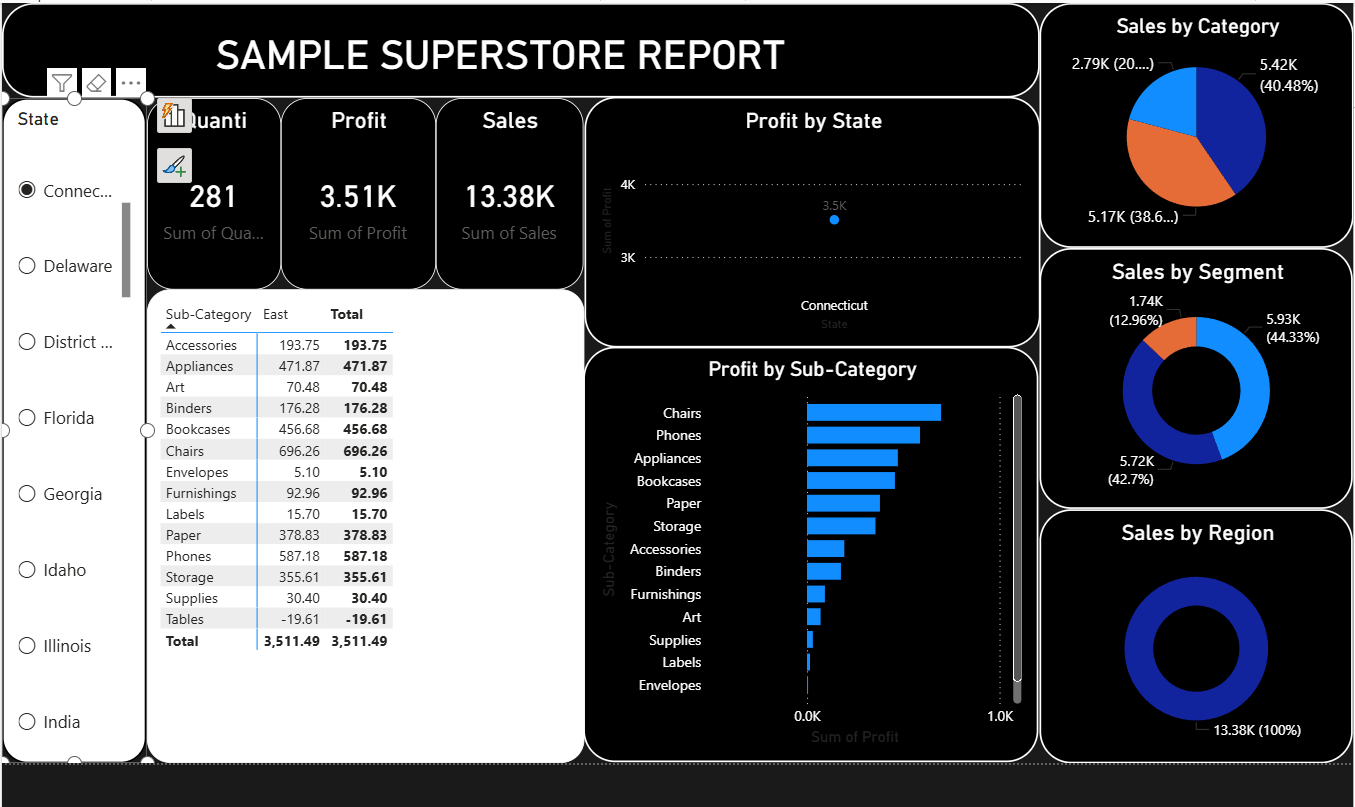

The dashboard page shown, as its layout file describes it:
{"tool":"powerbi","page":{"name":"Page 1","canvas":[1280,720],"ordinal":0},"visuals":[{"type":"textbox","box":[0,0,983.2,89.3],"z":0},{"type":"pieChart","title":"Profit by Category","fields":{"Category":["Table_1.Category"],"Y":["Sum(Table_1.Profit)"]},"box":[983.2,0,297.1,232.3],"z":1000},{"type":"donutChart","title":"Profit by Segment","fields":{"Category":["Table_1.Segment"],"Y":["Sum(Table_1.Profit)"]},"box":[983.2,232.3,297.1,247],"z":2000},{"type":"donutChart","title":"Profit by Region","fields":{"Category":["Table_1.Region"],"Y":["Sum(Table_1.Profit)"]},"box":[983.2,479.4,297.1,240.9],"z":3000},{"type":"lineChart","title":" Profit by State","fields":{"Category":["Table_1.State"],"Y":["Sum(Table_1.Profit)"]},"box":[551.5,89.3,431.7,237.2],"z":4000},{"type":"clusteredBarChart","title":" Profit by Sub-Category","fields":{"Category":["Table_1.Sub-Category"],"Y":["Sum(Table_1.Profit)"]},"box":[551.1,326.1,431.4,393.9],"z":5000},{"type":"pivotTable","fields":{"Columns":["Table_1.Region"],"Rows":["Table_1.Sub-Category"],"Values":["Sum(Table_1.Profit)"]},"box":[137.1,271.2,414.1,448.7],"z":6000},{"type":"card","title":"Sales","fields":{"Values":["Sum(Table_1.Sales)"]},"box":[411.2,89.5,139.9,181.8],"z":7000},{"type":"card","title":"Profit","fields":{"Values":["Sum(Table_1.Profit)"]},"box":[264,89.5,147.2,181.8],"z":8000},{"type":"card","title":"Quanti","fields":{"Values":["Sum(Table_1.Quantity)"]},"box":[137.1,89.5,127,181.8],"z":9000},{"type":"listSlicer","fields":{"Values":["Table_1.State"]},"box":[0,89.5,137.1,630.5],"z":9001}]}

Visuals, with their boxes in screenshot pixels (x1, y1, x2, y2):
textbox: [7, 0, 1033, 93]
"Profit by Category" pieChart: [1033, 0, 1344, 243]
"Profit by Segment" donutChart: [1033, 243, 1344, 500]
"Profit by Region" donutChart: [1033, 500, 1344, 752]
" Profit by State" lineChart: [583, 93, 1033, 341]
" Profit by Sub-Category" clusteredBarChart: [582, 340, 1033, 752]
pivotTable - Table_1.Region x Table_1.Sub-Category: [150, 283, 582, 752]
"Sales" card: [436, 93, 582, 283]
"Profit" card: [283, 93, 436, 283]
"Quanti" card: [150, 93, 283, 283]
listSlicer - Table_1.State: [7, 93, 150, 752]
